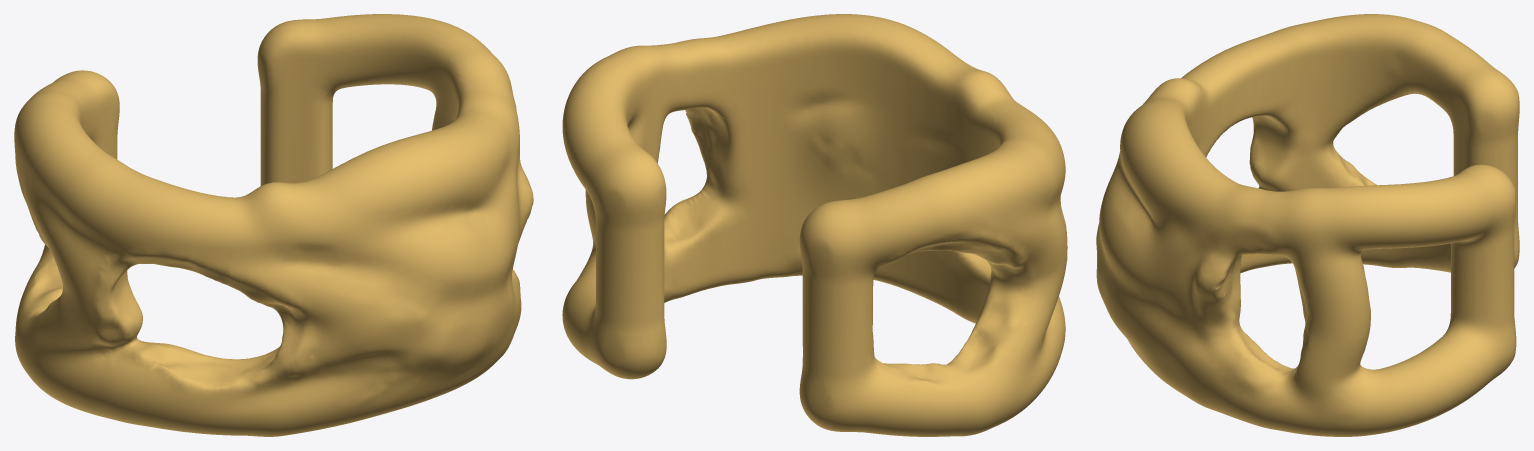
The model's file is sculptural_gold_cuff_web.glb.
3 renders of one model, left to right at view 1: azimuth 30°, elevation 25°; view 2: azimuth 150°, elevation 25°; view 3: azimuth 270°, elevation 25°, orthographic. The views are drawn at different scales.
Visible parts, largest first — view 1: DEKA | 18K Gold Cuff | Web; view 2: DEKA | 18K Gold Cuff | Web; view 3: DEKA | 18K Gold Cuff | Web.
Boxes of the visible parts, x1,y1,x2,y2 form: DEKA | 18K Gold Cuff | Web: [14, 14, 533, 436]; DEKA | 18K Gold Cuff | Web: [562, 14, 1067, 436]; DEKA | 18K Gold Cuff | Web: [1096, 14, 1519, 436].
Size of the model in its own units: 79.66 by 45.23 by 70.11.
